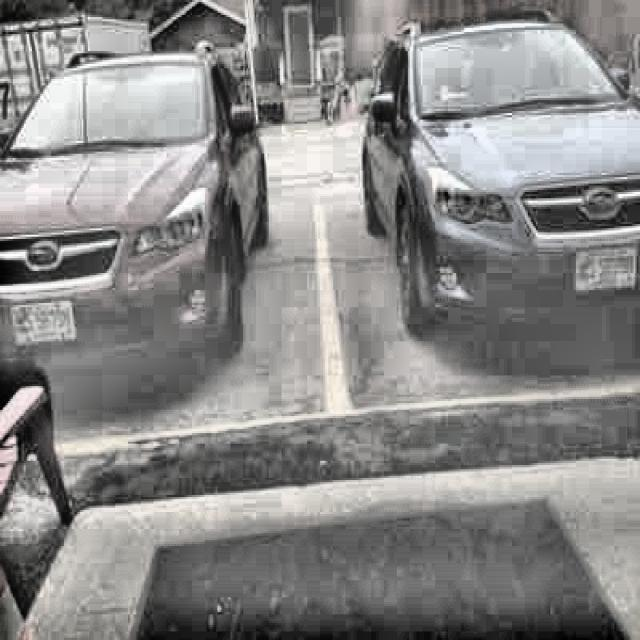license_plate: (4, 298, 78, 350), (571, 247, 640, 301)
